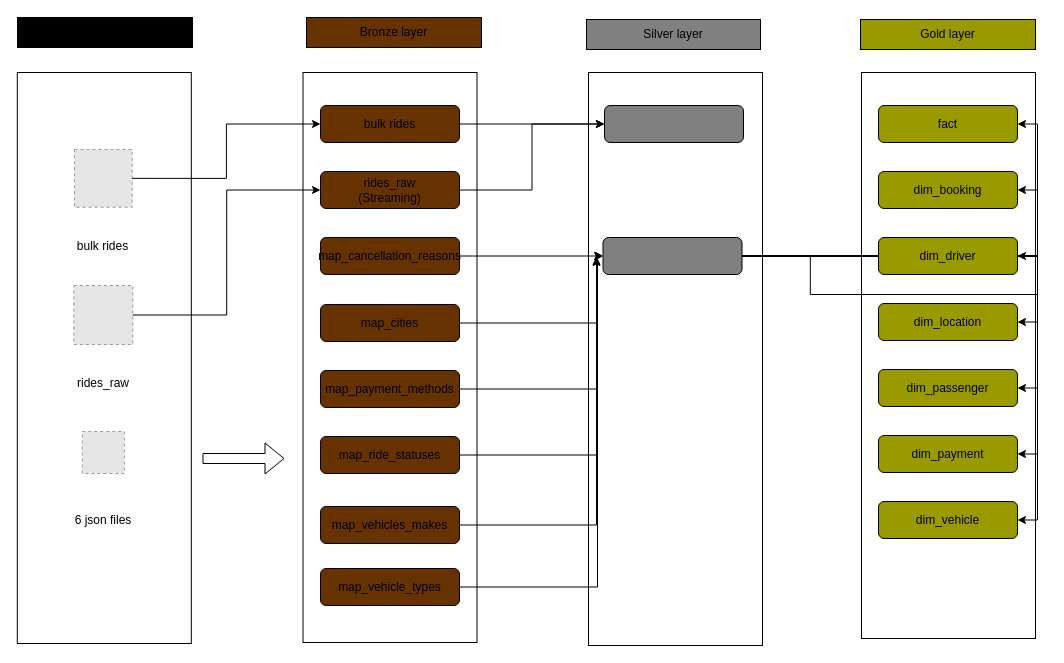
Some shapes in this 1064 by 663 pixel diagram are drawn without their labels. Grey dashed boxes stand in for pictures. The centre of each missing label's shape, as x and y in pixels:
"One Big Table" belongs at (x=672, y=255).
"stg_rides" belongs at (x=674, y=123).
